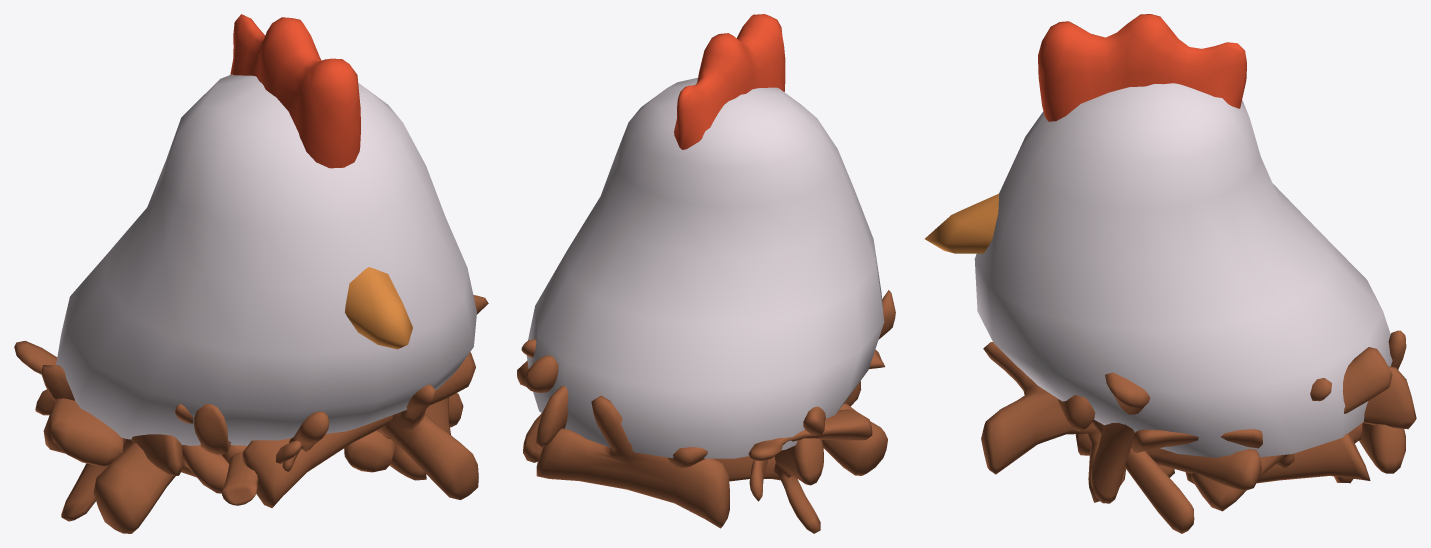
File: ChickenHat (1).fbx
3 views of the same model, side by side, from view 1: azimuth 30°, elevation 25°; view 2: azimuth 150°, elevation 25°; view 3: azimuth 270°, elevation 25° (orthographic). The views are drawn at different scales.
Parts seen in each view (by area): view 1: Nest; view 2: Nest; view 3: Nest.
Boxes of the visible parts, <box> form: Nest: <box>14,14,488,533</box>; Nest: <box>517,14,895,533</box>; Nest: <box>925,14,1416,533</box>.
Bounding box in the file's own units: 28.28 × 34.23 × 32.31.
